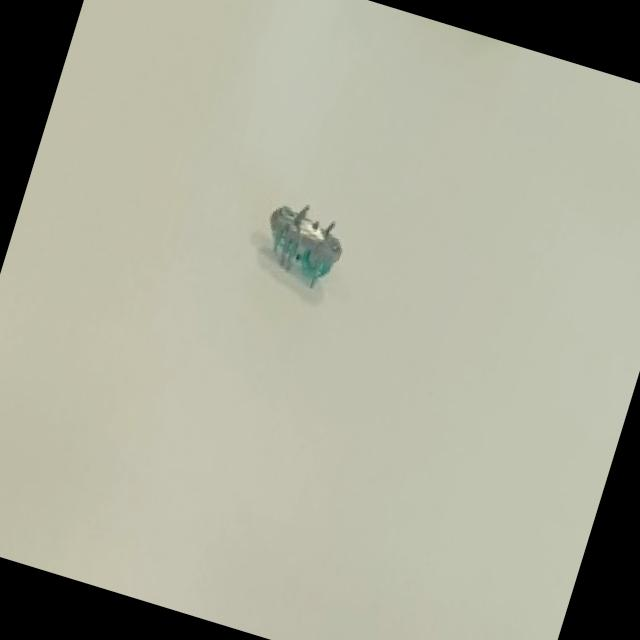5_NanoBug_GrisClaro: (224, 175, 375, 324)
